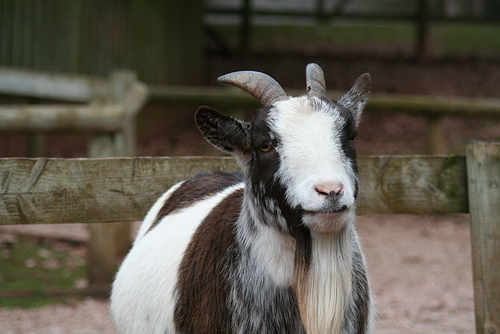goat: (109, 61, 374, 334)
